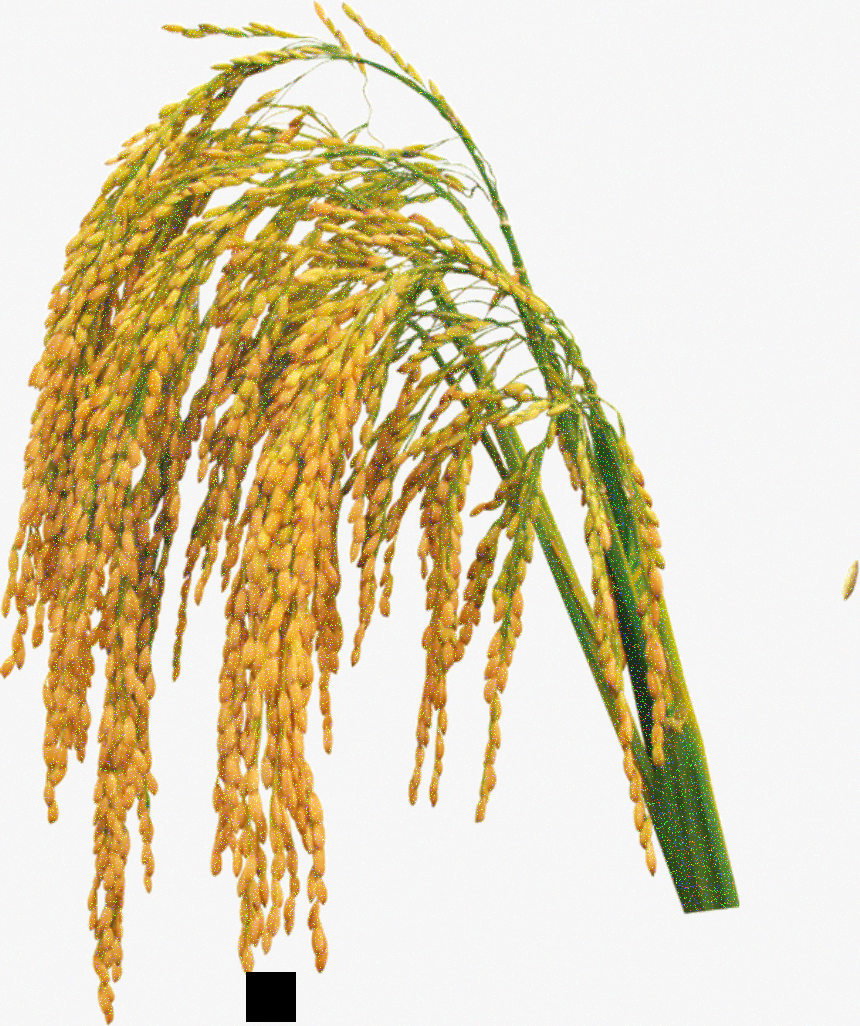rice: (6, 80, 495, 1015)
